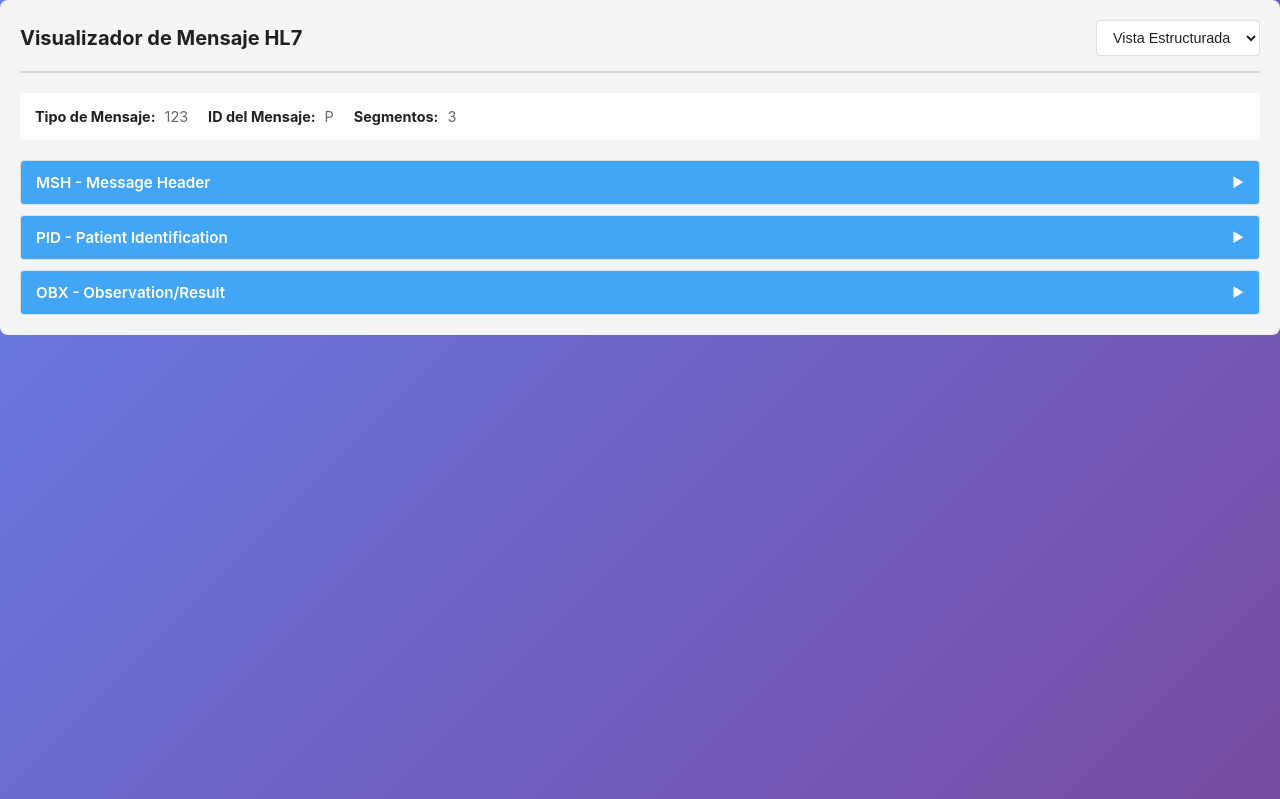
Test case: Hl7MessageViewer › expands segment on click to show fields
Click the text "MSH - Message Header ▶".
click(640, 182)  # box [21,161,1259,204]
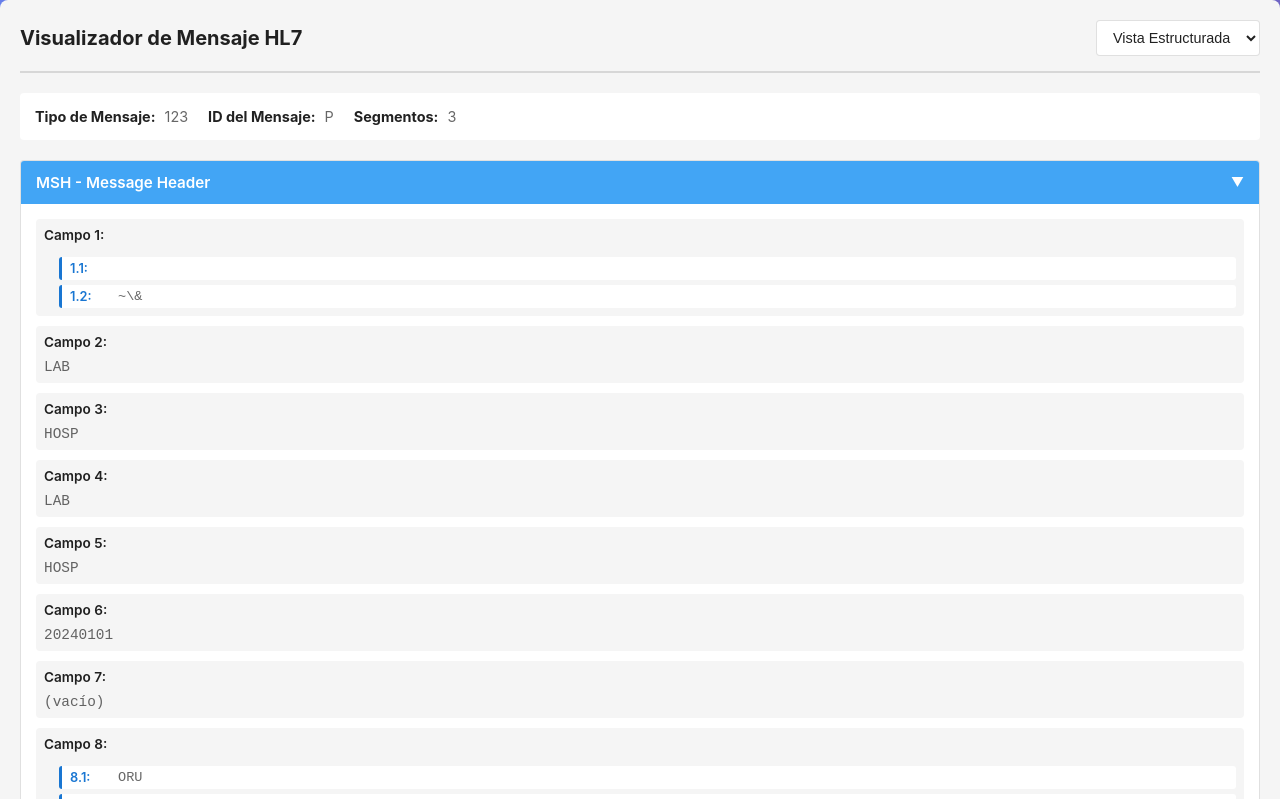
Result: the text "Campo 1:" is shown at [44,227,104,243]
